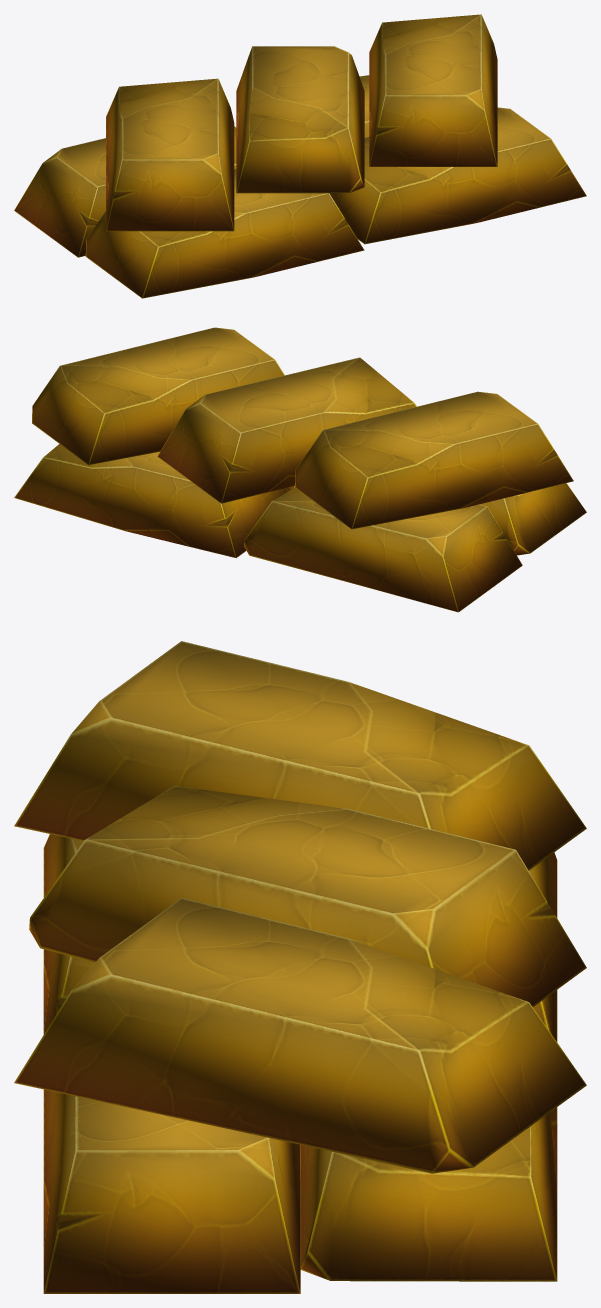
File: Gold-14.fbx
The picture shows the model from 3 angles, top to bottom: view 1: azimuth 30°, elevation 25°; view 2: azimuth 150°, elevation 25°; view 3: azimuth 270°, elevation 25°; orthographic projection. The views are drawn at different scales.
Visible parts, largest first — view 1: Gold-14; view 2: Gold-14; view 3: Gold-14.
Part boxes in pixels (x1,y1,x2,y2): Gold-14: (14, 14, 586, 298); Gold-14: (14, 327, 586, 612); Gold-14: (14, 641, 586, 1293).
Bounding box in the file's own units: 0.3136 × 0.075 × 0.1674.
1 material, 1 textured.
